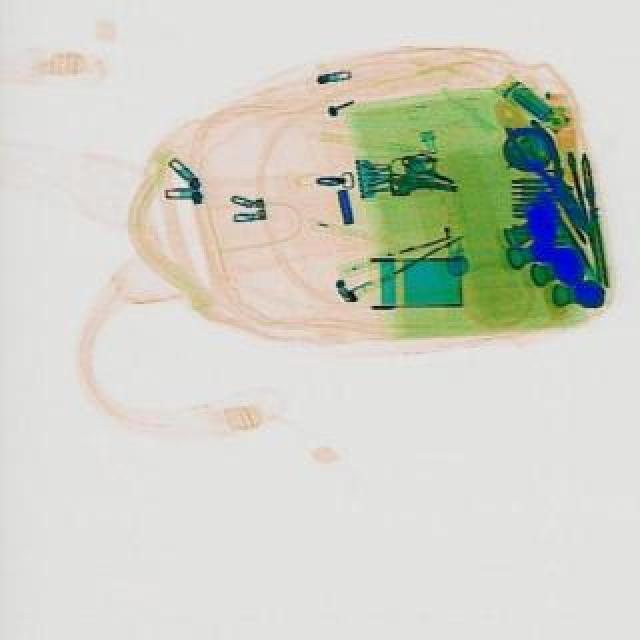wrench: (500, 114, 604, 248)
